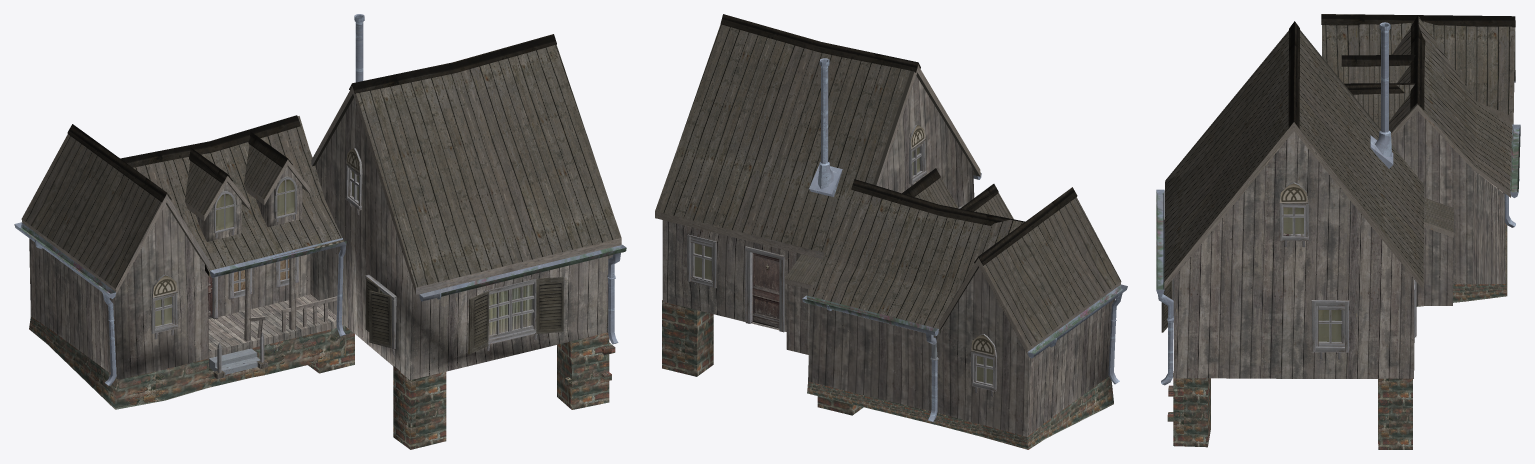
The picture shows the model from 3 angles, left to right: view 1: azimuth 30°, elevation 25°; view 2: azimuth 150°, elevation 25°; view 3: azimuth 270°, elevation 25°; orthographic projection. The views are drawn at different scales.
Visible parts, largest first — view 1: house_4; view 2: house_4; view 3: house_4.
Part boxes in pixels (x1,y1,x2,y2): house_4: (14,14,626,449); house_4: (655,14,1127,449); house_4: (1156,14,1520,449).
Bounding box in the file's own units: 12.69 × 9.57 × 9.04.
5 materials, 4 textured.
